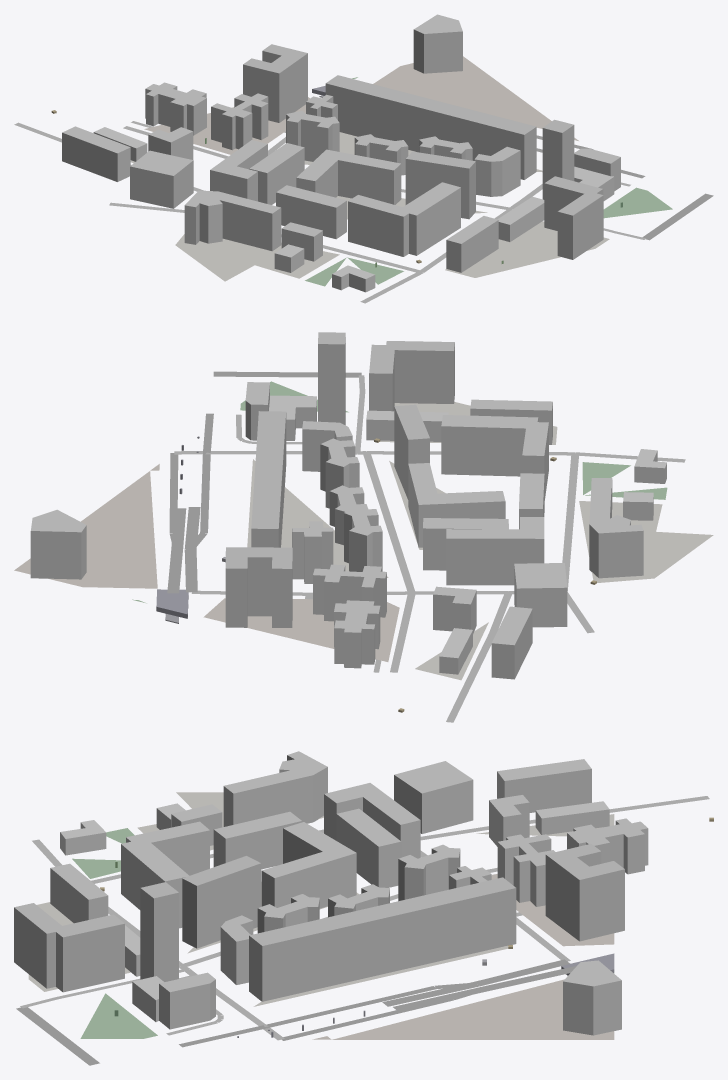
3 views of the same model, one above another, from view 1: azimuth 30°, elevation 25°; view 2: azimuth 150°, elevation 25°; view 3: azimuth 270°, elevation 25° (orthographic). The views are drawn at different scales.
Bounding box in the file's own units: 564 × 107 × 598.
